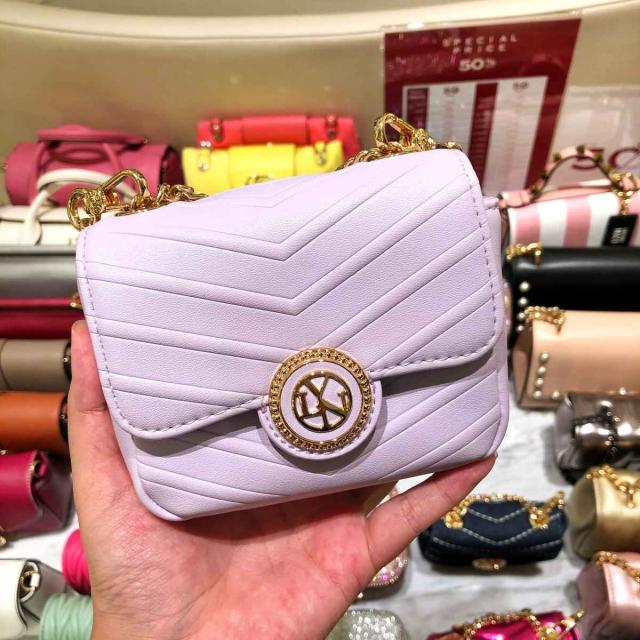Handbag: (84, 135, 514, 530)
